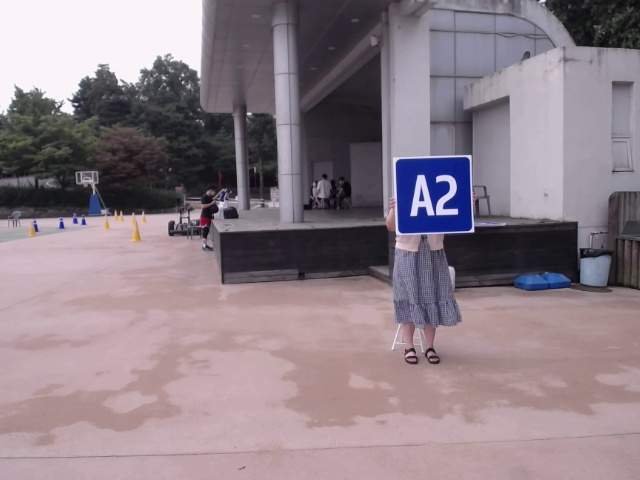delivery_a2: (392, 157, 473, 235)
